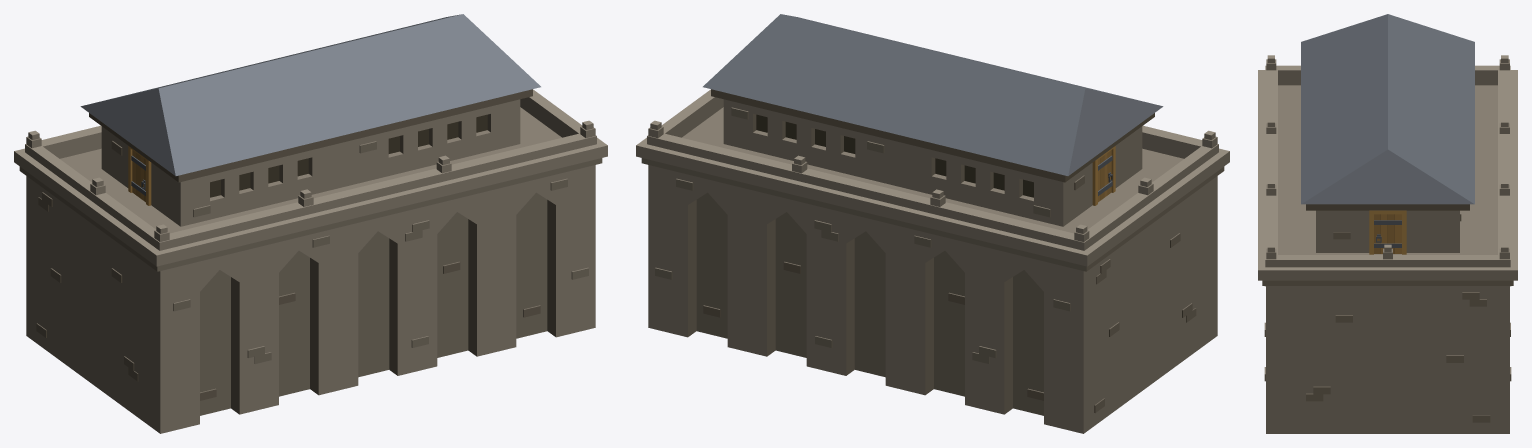
The model's file is SF_Bld_Castle_Hall_01.fbx.
3 views of the same model, side by side, from view 1: azimuth 30°, elevation 25°; view 2: azimuth 150°, elevation 25°; view 3: azimuth 270°, elevation 25° (orthographic). The views are drawn at different scales.
Visible parts, largest first — view 1: SF_Bld_Castle_Hall_01; view 2: SF_Bld_Castle_Hall_01; view 3: SF_Bld_Castle_Hall_01.
Part boxes in pixels (<box>): SF_Bld_Castle_Hall_01: <box>14,14,607,433</box>; SF_Bld_Castle_Hall_01: <box>636,14,1229,433</box>; SF_Bld_Castle_Hall_01: <box>1258,14,1517,433</box>.
Bounding box in the file's own units: 33.82 × 20.1 × 18.51.
